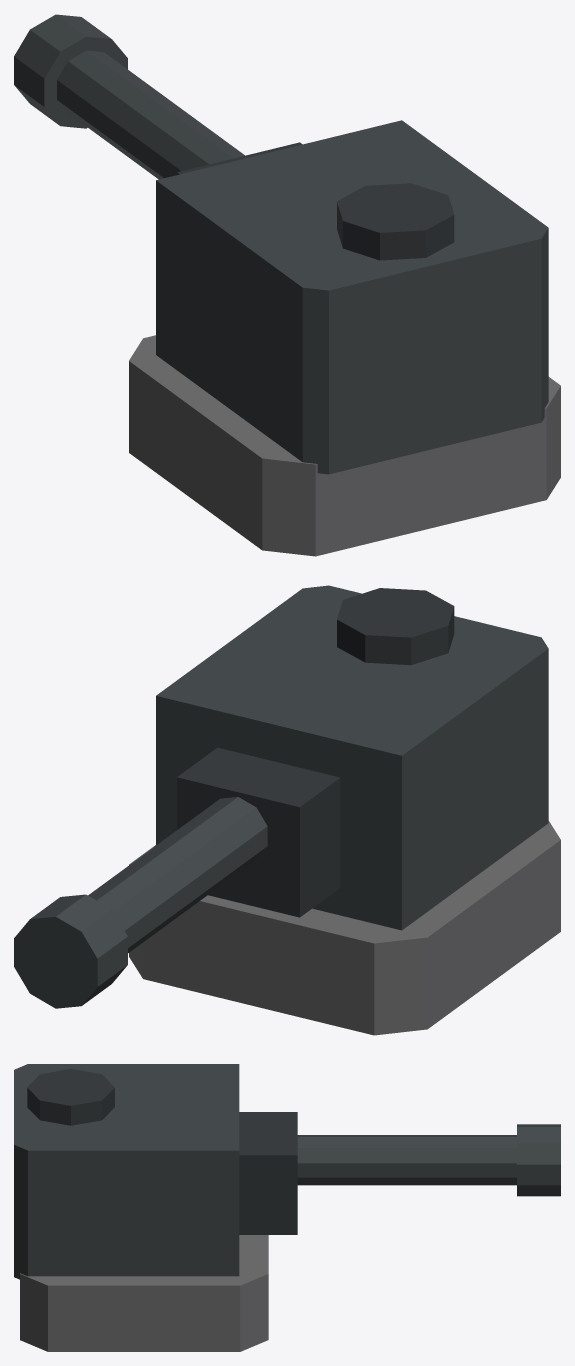
The model's file is base_turret.glb.
The picture shows the model from 3 angles, top to bottom: view 1: azimuth 30°, elevation 25°; view 2: azimuth 150°, elevation 25°; view 3: azimuth 270°, elevation 25°; orthographic projection. The views are drawn at different scales.
Parts seen in each view (by area): view 1: base_turret; view 2: base_turret; view 3: base_turret.
Boxes of the visible parts, bbox=[...] form: base_turret: bbox=[14, 14, 560, 556]; base_turret: bbox=[14, 585, 560, 1035]; base_turret: bbox=[14, 1064, 560, 1351].
Bounding box in the file's own units: 0.34 × 0.32 × 0.748.
1 material, 1 textured.
